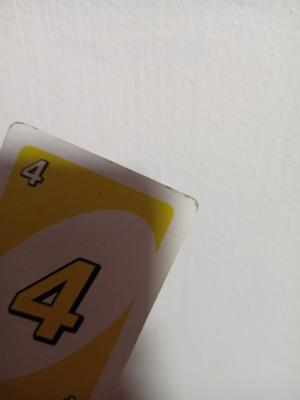num_4: (5, 253, 105, 349), (13, 148, 52, 232)
